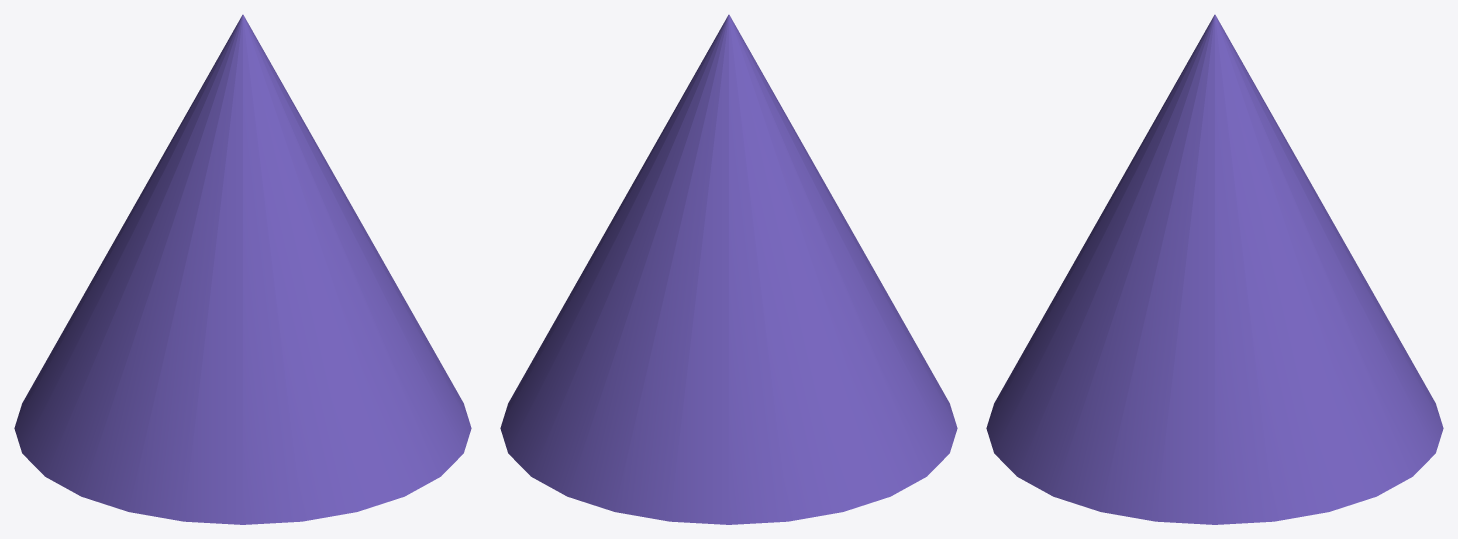
3 renders of one model, left to right at view 1: azimuth 30°, elevation 25°; view 2: azimuth 150°, elevation 25°; view 3: azimuth 270°, elevation 25°, orthographic.
Parts seen in each view (by area): view 1: userGroup; view 2: userGroup; view 3: userGroup.
Boxes of the visible parts, box(x1,y1,x2,y2) form: userGroup: box(14, 14, 471, 524); userGroup: box(500, 14, 957, 524); userGroup: box(986, 14, 1443, 524).
Bounding box in the file's own units: 1.44 × 1.44 × 1.44.
